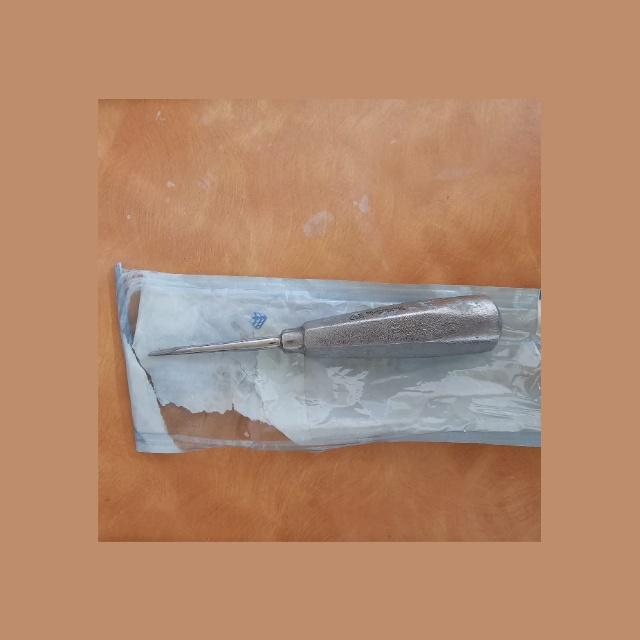botador: (146, 295, 501, 360)
